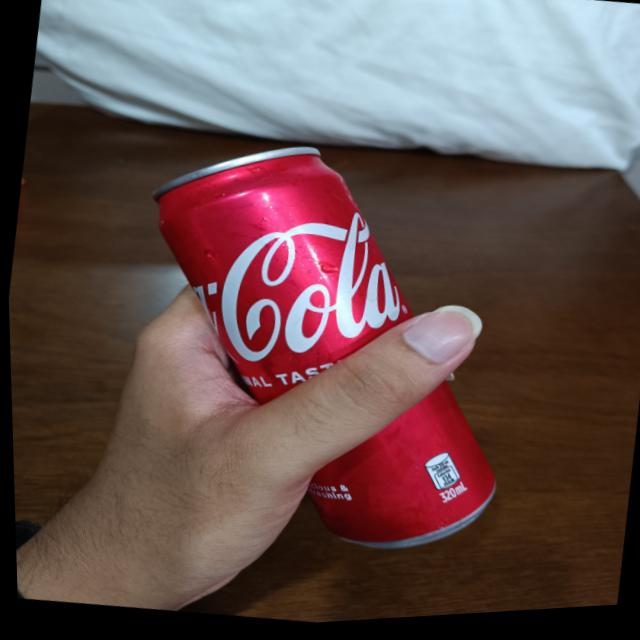coke: (109, 120, 542, 585)
